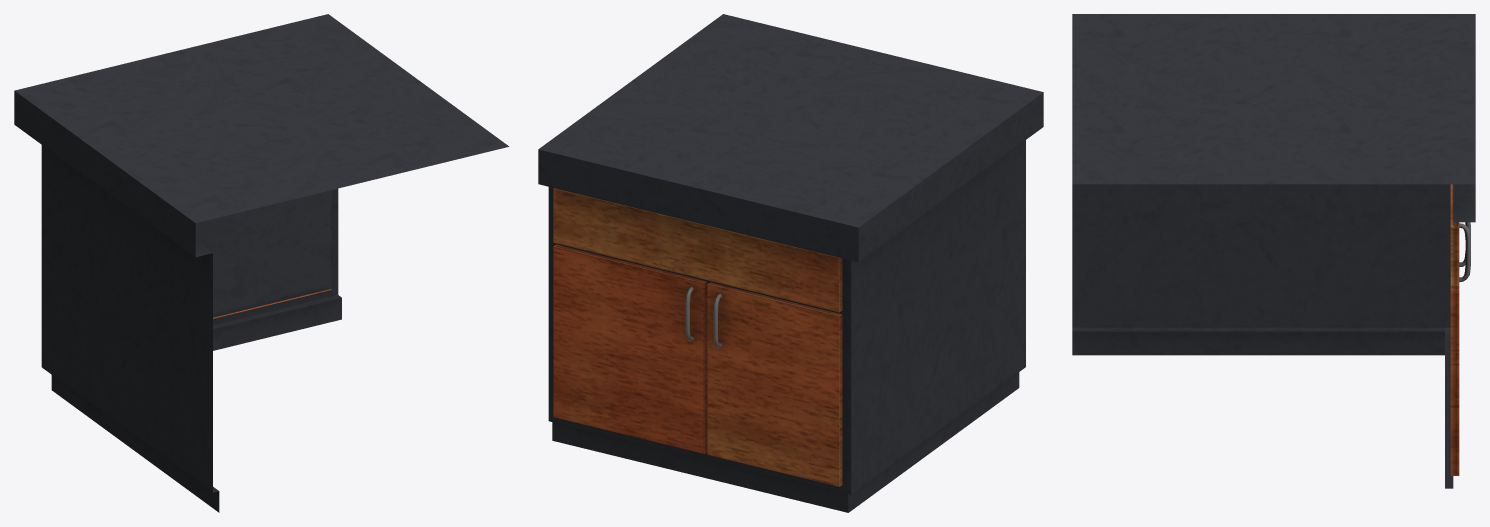
The model's file is CounterLeftV1.fbx.
3 views of the same model, side by side, from view 1: azimuth 30°, elevation 25°; view 2: azimuth 150°, elevation 25°; view 3: azimuth 270°, elevation 25° (orthographic). The views are drawn at different scales.
Visible parts, largest first — view 1: CounterLeftV1; view 2: CounterLeftV1; view 3: CounterLeftV1.
Boxes of the visible parts, <box> form: CounterLeftV1: <box>14,14,508,512</box>; CounterLeftV1: <box>538,14,1043,512</box>; CounterLeftV1: <box>1072,14,1475,488</box>.
Bounding box in the file's own units: 152 × 137 × 152.
